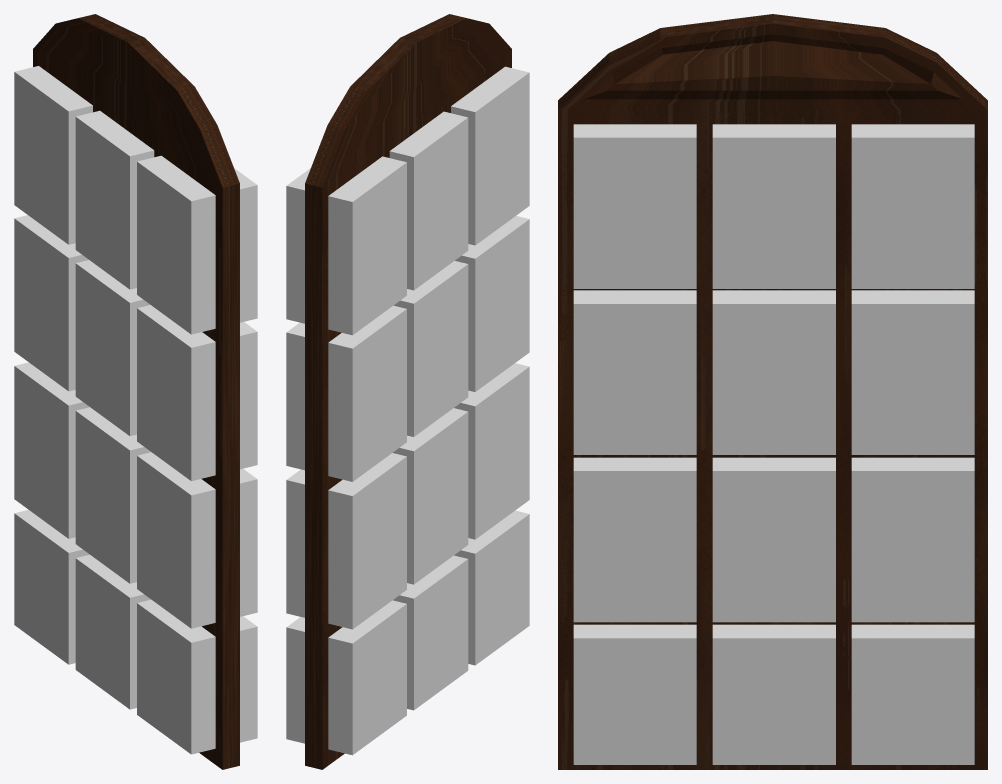
Rendered from okno.fbx.
3 views of the same model, side by side, from view 1: azimuth 30°, elevation 25°; view 2: azimuth 150°, elevation 25°; view 3: azimuth 270°, elevation 25° (orthographic). The views are drawn at different scales.
Parts seen in each view (by area): view 1: Cube.006, Cube; view 2: Cube.006, Cube; view 3: Cube.006, Cube.
Part boxes in pixels (<box>): Cube.006: <box>14,66,257,754</box>; Cube: <box>33,14,239,769</box>; Cube.006: <box>286,66,529,755</box>; Cube: <box>305,14,511,769</box>; Cube.006: <box>573,124,974,764</box>; Cube: <box>558,14,987,769</box>.
Bounding box in the file's own units: 107 × 1014 × 529.
